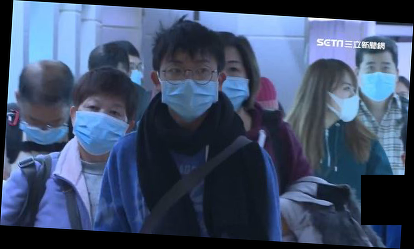with_mask: (156, 57, 219, 120), (72, 97, 131, 154), (356, 56, 398, 100), (220, 54, 251, 112), (18, 112, 70, 146), (328, 80, 361, 124)
